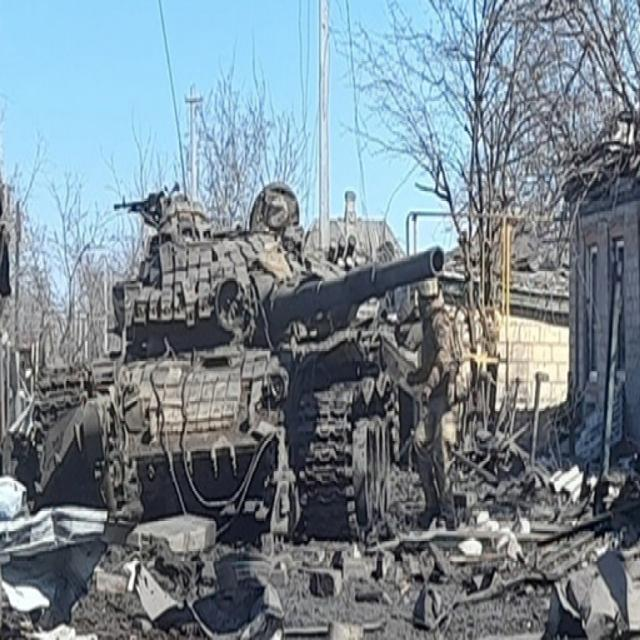TANK: (66, 205, 448, 522)
